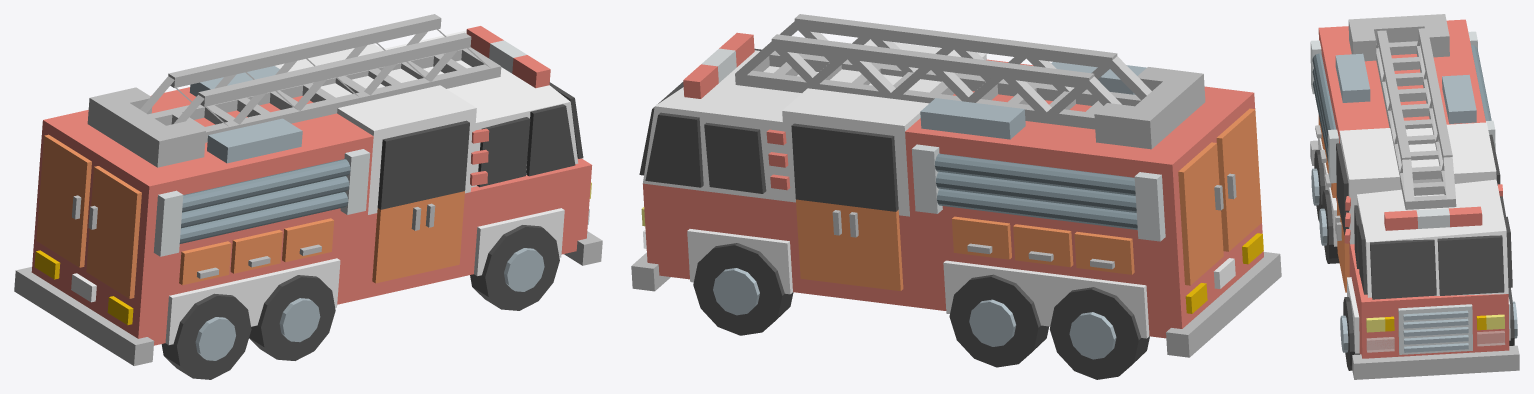
Rendered from firetruck.gltf.
The picture shows the model from 3 angles, left to right: view 1: azimuth 30°, elevation 25°; view 2: azimuth 150°, elevation 25°; view 3: azimuth 270°, elevation 25°; orthographic projection. The views are drawn at different scales.
Visible parts, largest first — view 1: group1198040860, group1707881757, group2061106548, group776808363, group478349701, group253994309, group280061930, group352506682, group272010986, group1500306691, group1027764117, group1833410795 (+31 smaller); view 2: group1198040860, group1707881757, group565017838, group2065852253, group2061106548, group1500306691, group352506682, group1652133696, group2106649453, group618528538, group272010986, group1708599866 (+34 smaller); view 3: group2061106548, group1198040860, group1500306691, group1707881757, group81669160, group1666322371, group778633195, group228286394, group636087902, group272010986, group352506682, group400142184 (+52 smaller).
Part boxes in pixels (x1,y1,x2,y2): group1198040860: [31, 87, 373, 345]; group1707881757: [361, 158, 592, 298]; group2061106548: [275, 43, 476, 214]; group776808363: [377, 120, 469, 209]; group478349701: [372, 191, 464, 283]; group253994309: [86, 166, 141, 298]; group280061930: [36, 134, 91, 267]; group352506682: [198, 32, 471, 106]; group272010986: [168, 14, 441, 87]; group1500306691: [384, 30, 578, 187]; group1027764117: [14, 267, 154, 365]; group1833410795: [470, 225, 559, 310]; group1198040860: [905, 59, 1263, 338]; group1707881757: [643, 183, 915, 307]; group565017838: [791, 123, 898, 211]; group2065852253: [796, 199, 903, 291]; group2061106548: [782, 39, 986, 216]; group1500306691: [643, 50, 818, 201]; group352506682: [794, 14, 1117, 68]; group1652133696: [1049, 287, 1149, 379]; group2106649453: [693, 243, 793, 335]; group618528538: [949, 274, 1048, 367]; group272010986: [771, 34, 1094, 87]; group1708599866: [943, 260, 1149, 338]; group2061106548: [1339, 122, 1496, 244]; group1198040860: [1318, 19, 1485, 202]; group1500306691: [1357, 179, 1508, 297]; group1707881757: [1349, 242, 1509, 358]; group81669160: [1437, 235, 1504, 295]; group1666322371: [1370, 239, 1436, 299]; group778633195: [1352, 345, 1519, 379]; group228286394: [1398, 304, 1472, 354]; group636087902: [1348, 14, 1447, 48]; group272010986: [1418, 28, 1452, 163]; group352506682: [1377, 30, 1411, 165]; group400142184: [1335, 53, 1370, 102].
Bounding box in the file's own units: 0.1931 × 0.0986 × 0.085.
